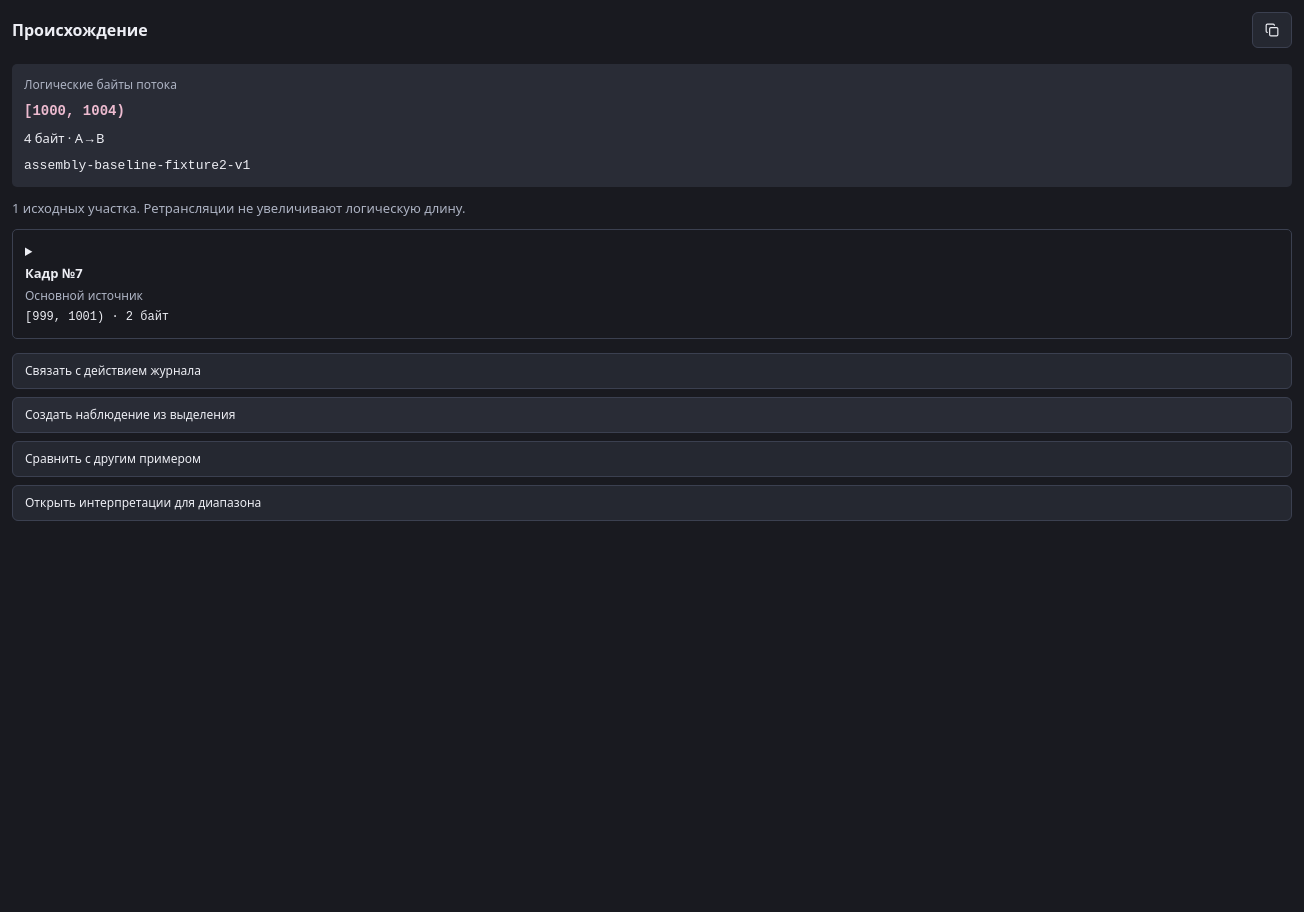
Test: недоступная часть кадра обозначается ошибкой вместо пустого выделения
Click the text "Кадр №7" at [54, 273], box [25,264,83,282]
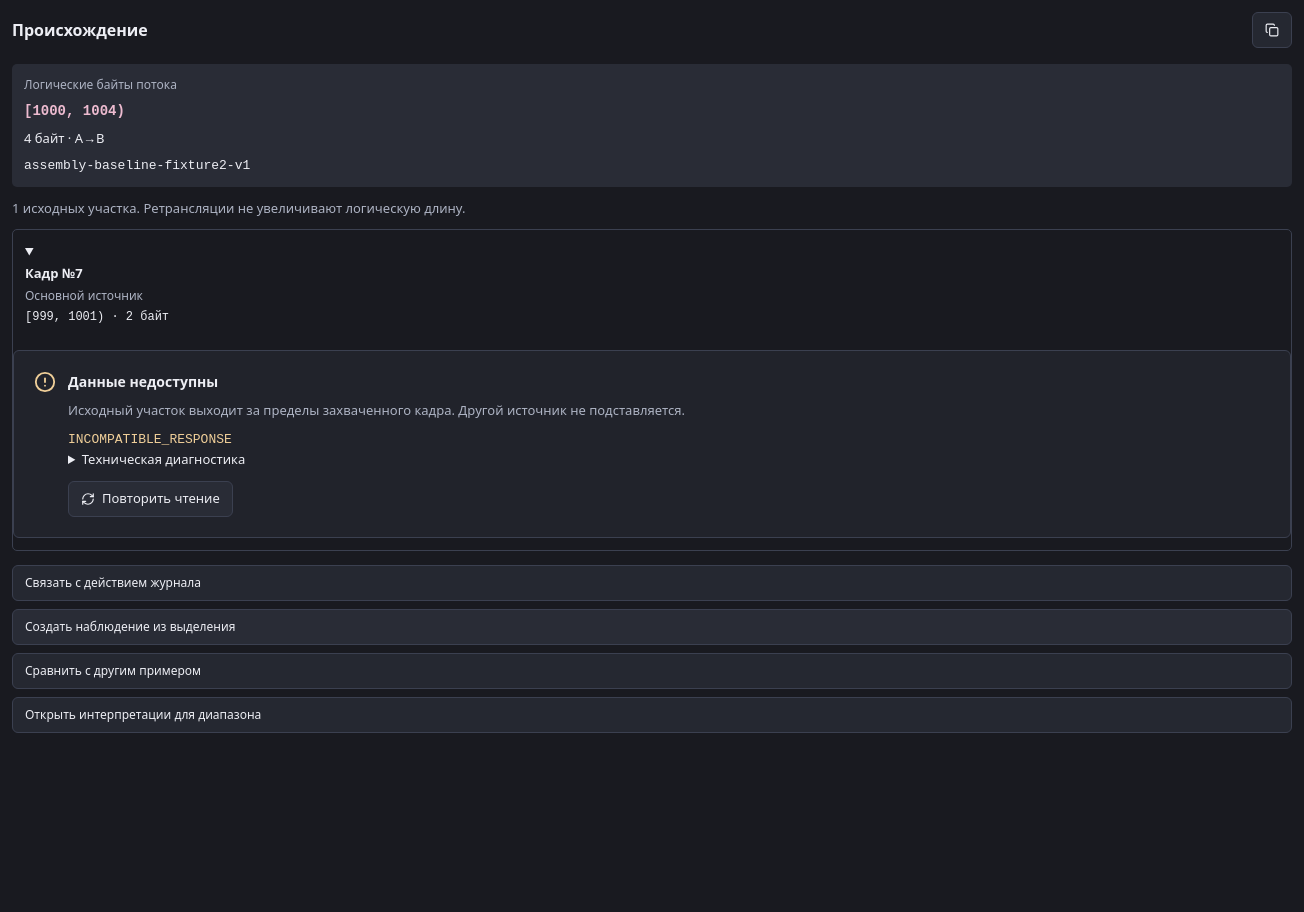
Now the text "Исходный участок выходит за пределы захваченного кадра" is shown, box [68,400,685,418]
